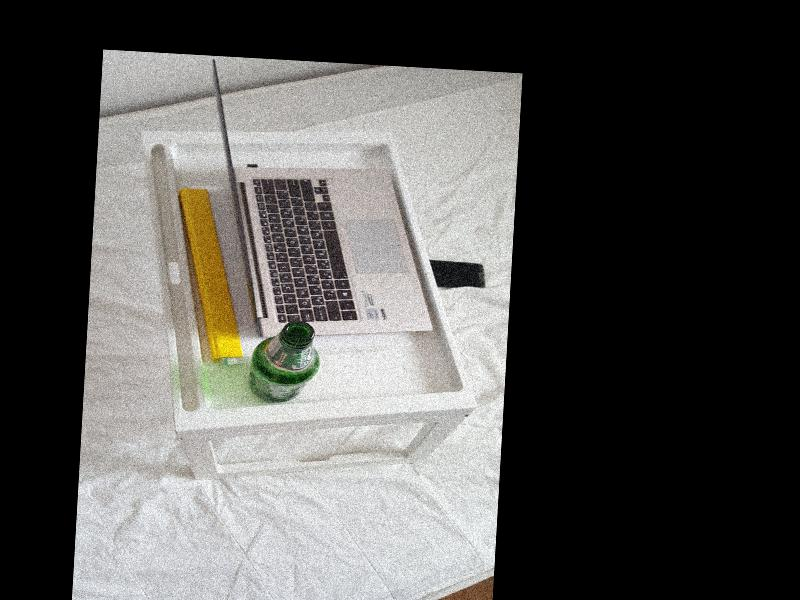Beer: (247, 319, 322, 406)
